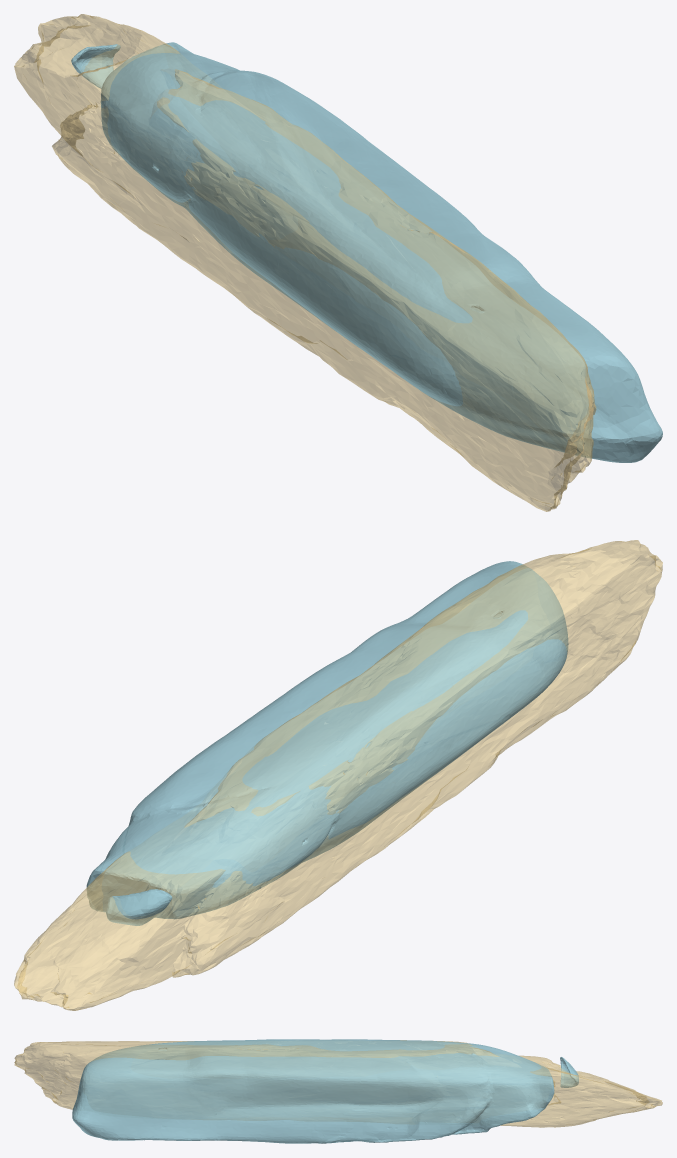
The model's file is overlay-7169482.glb.
3 views of the same model, one above another, from view 1: azimuth 30°, elevation 25°; view 2: azimuth 150°, elevation 25°; view 3: azimuth 270°, elevation 25° (orthographic). The views are drawn at different scales.
Visible parts, largest first — view 1: admitted_hypothesis_blue, true_scan_amber; view 2: true_scan_amber, admitted_hypothesis_blue; view 3: admitted_hypothesis_blue, true_scan_amber.
Part boxes in pixels (x1,y1,x2,y2): admitted_hypothesis_blue: (71,42,662,462); true_scan_amber: (14,14,596,511); true_scan_amber: (14,540,662,1010); admitted_hypothesis_blue: (86,561,568,925); admitted_hypothesis_blue: (72,1039,578,1143); true_scan_amber: (14,1040,662,1127).
Size of the model in its own units: 0.1931 by 0.1574 by 1.17.
